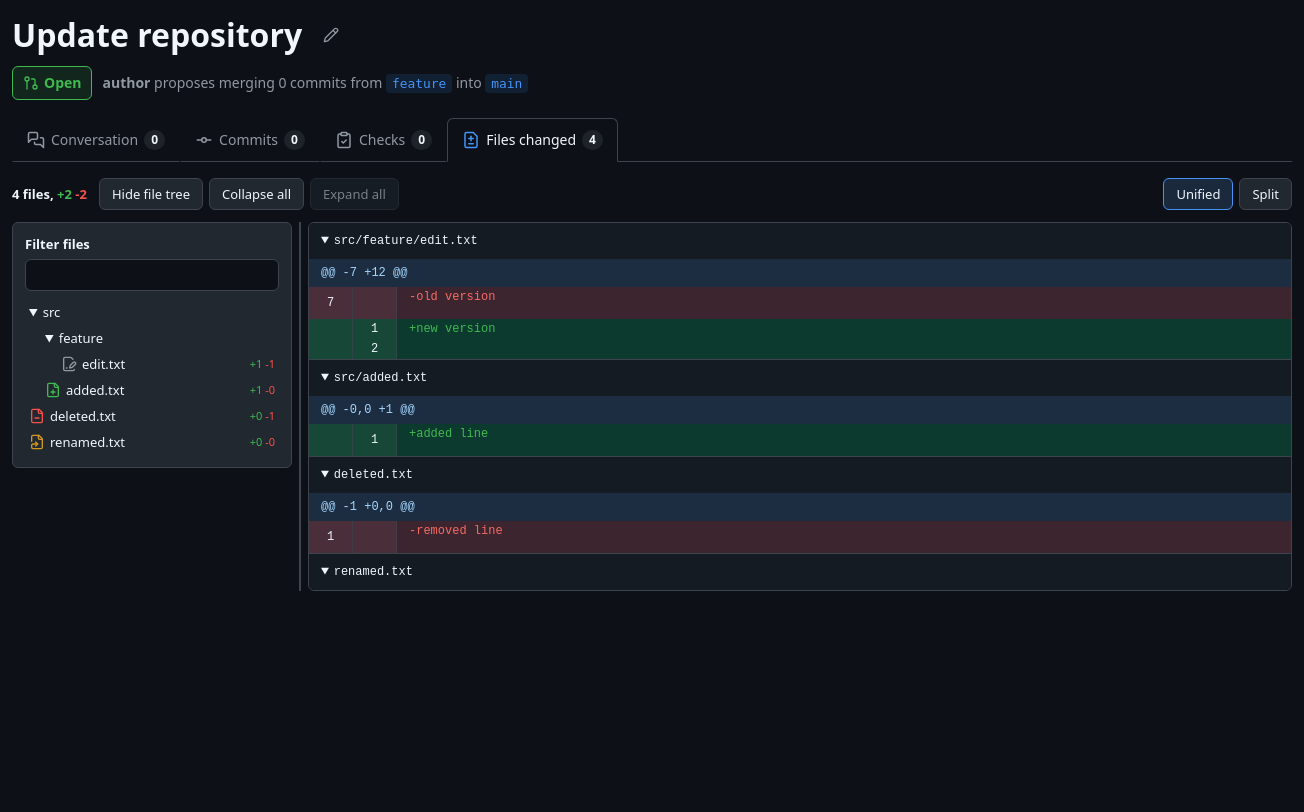
Test: PullRequestDetailPage › clamps pointer and keyboard resizing and persists width and visibility across mounts
Later steps or results of the test are not shown.
Press the mouse on the element named "Resize file tree" at (300, 406), box [292, 222, 308, 591]
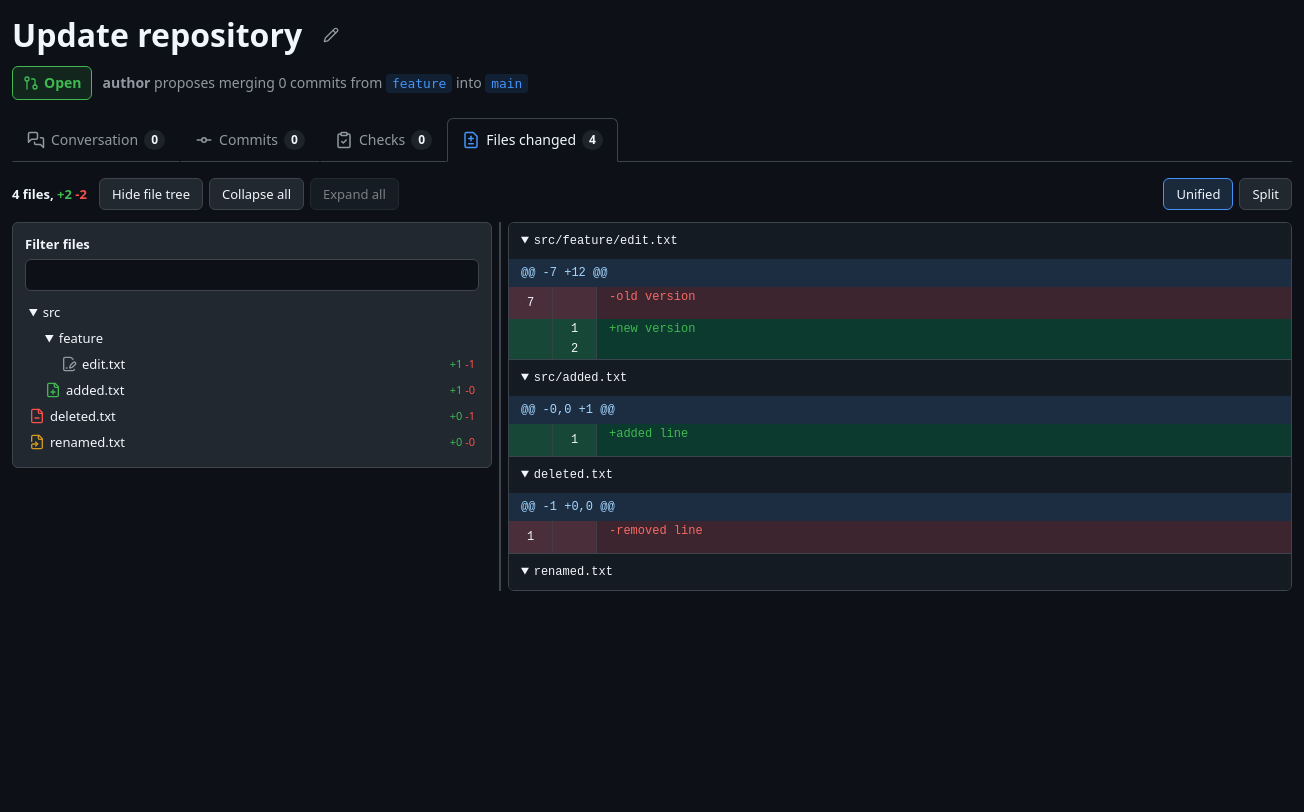
Check: the element named "Resize file tree" has attribute aria-valuenow="480"
Press Home in the element named "Resize file tree", box [492, 222, 508, 591]
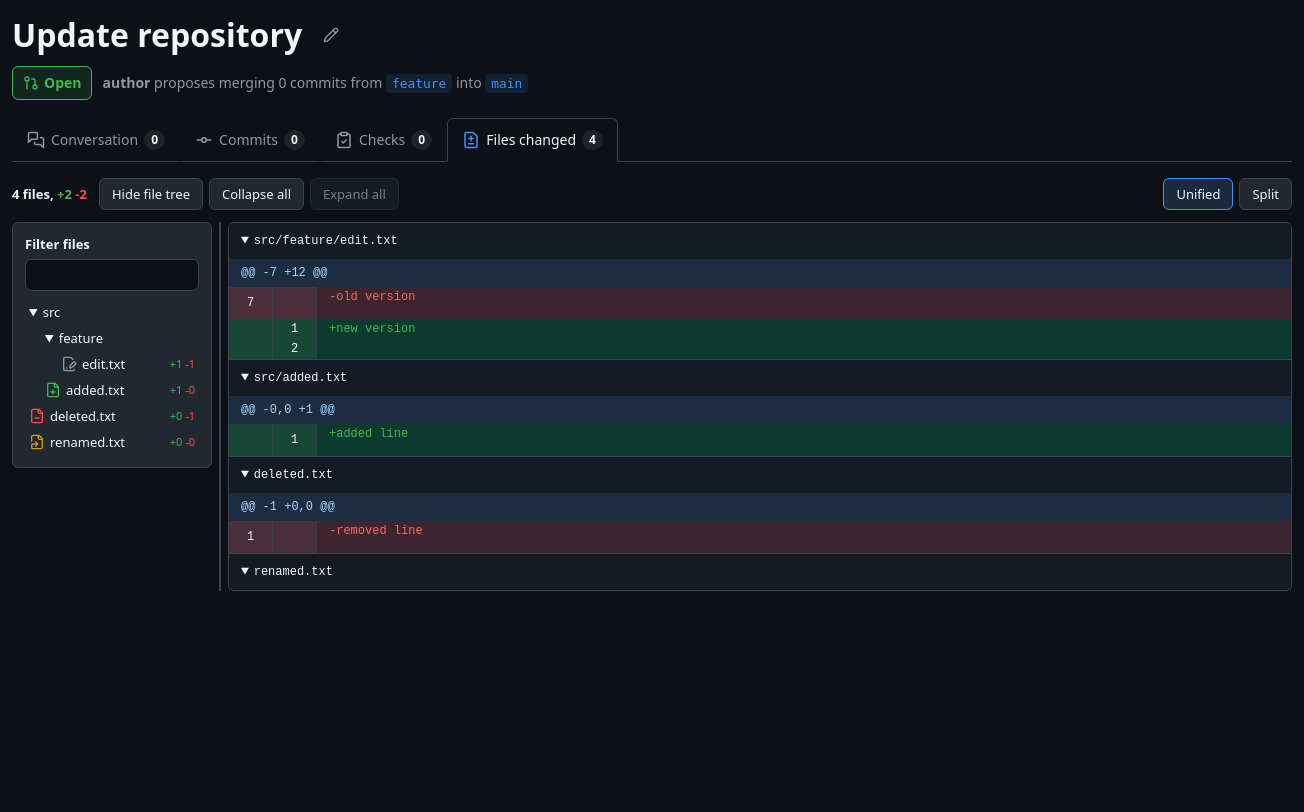
Press ArrowLeft in the element named "Resize file tree", box [212, 222, 228, 591]
Check: the element named "Resize file tree" has attribute aria-valuenow="200"
Press ArrowRight in the element named "Resize file tree", box [212, 222, 228, 591]
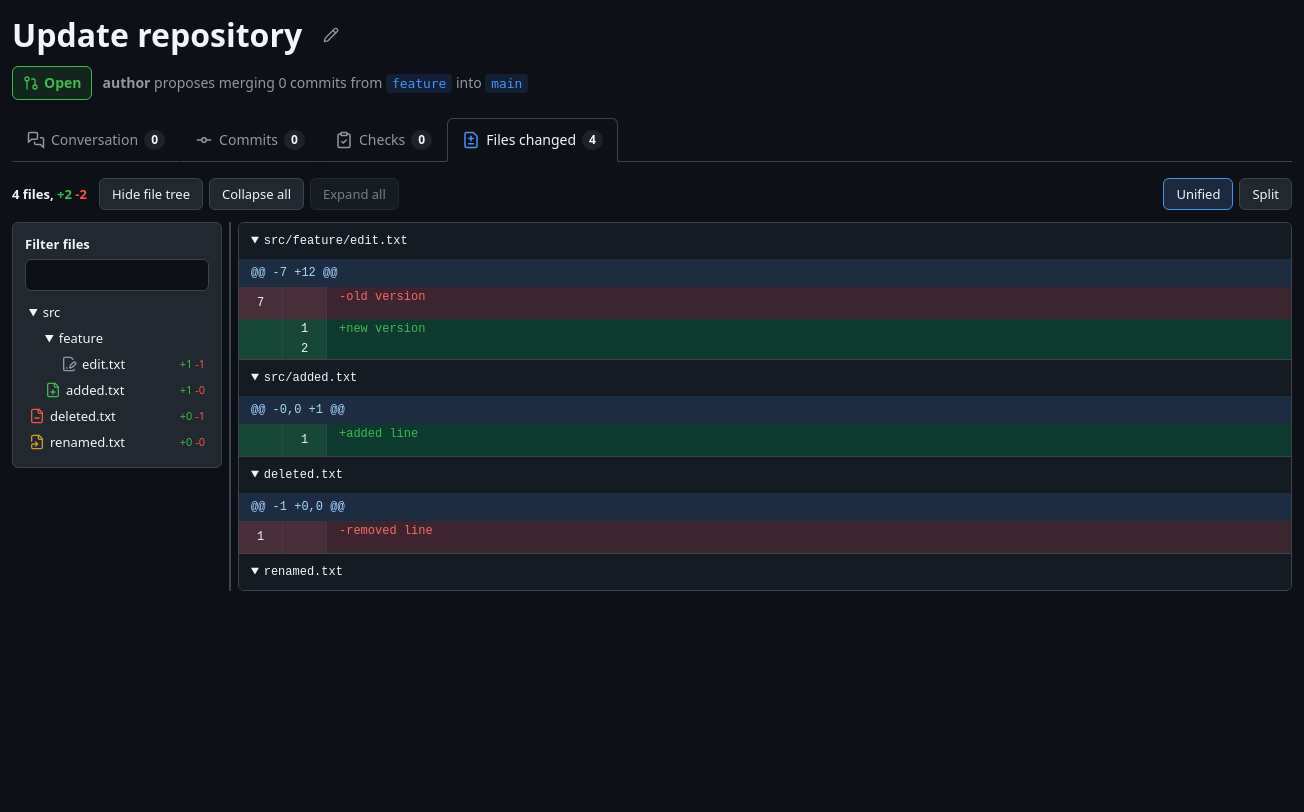
Check: the element named "Resize file tree" has attribute aria-valuenow="210", box [222, 222, 238, 591]
